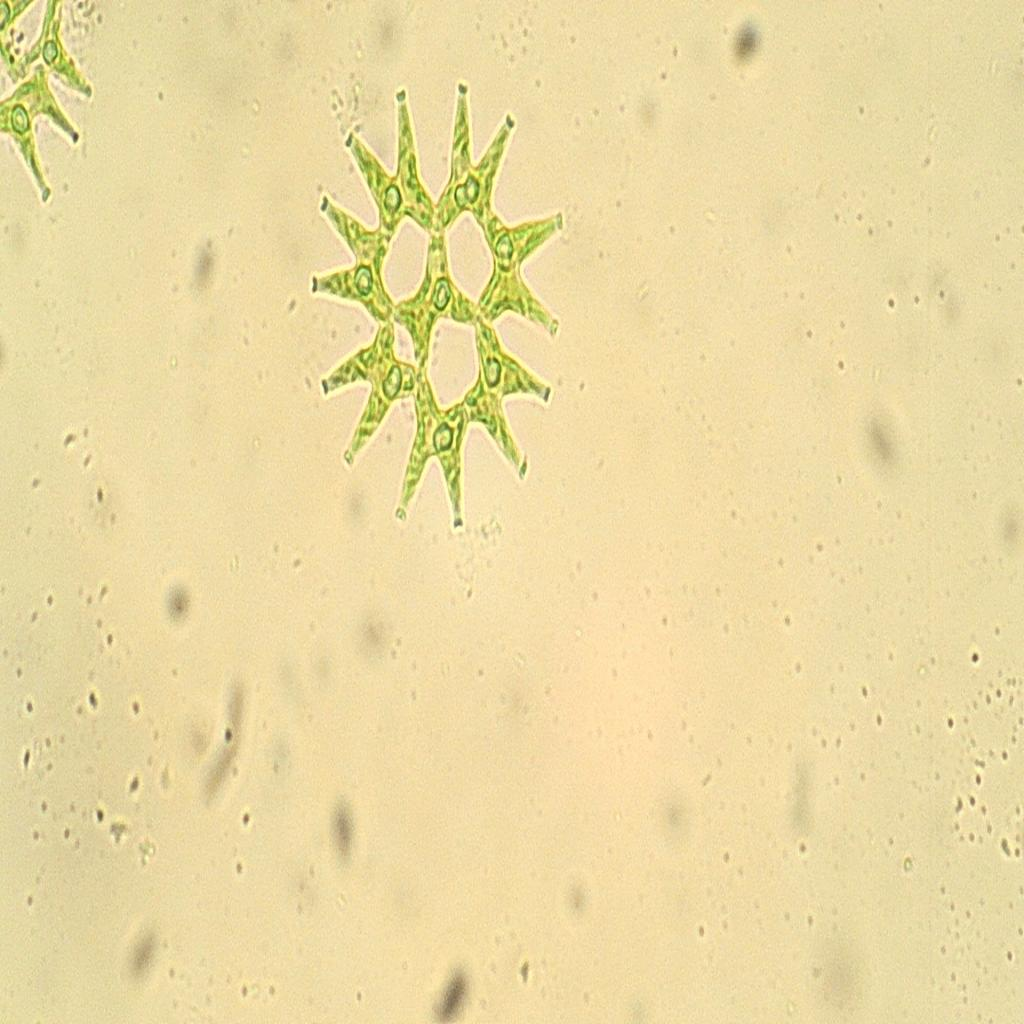Pediastrum_75T: (306, 68, 570, 564)
